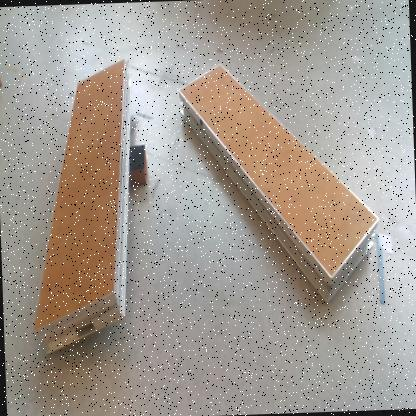Stairs: (181, 65, 382, 306), (33, 57, 132, 356)
